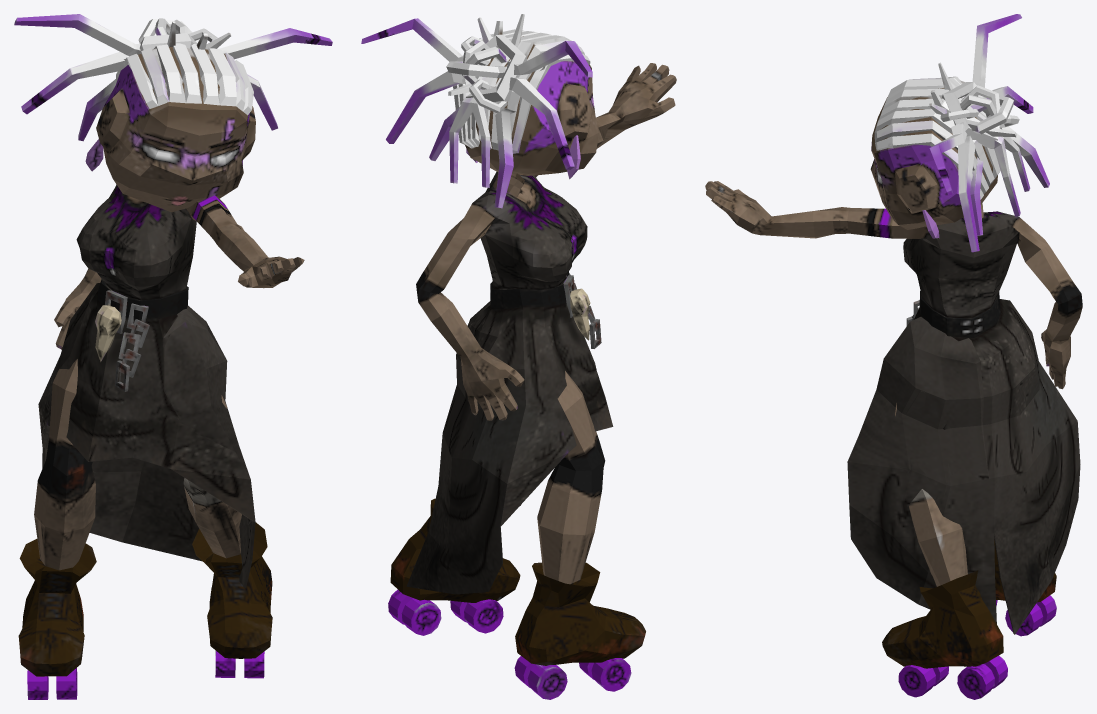
File: bruja_000025.obj
3 views of the same model, side by side, from view 1: azimuth 30°, elevation 25°; view 2: azimuth 150°, elevation 25°; view 3: azimuth 270°, elevation 25° (orthographic). The views are drawn at different scales.
Visible parts, largest first — view 1: Bruja_Plane.001; view 2: Bruja_Plane.001; view 3: Bruja_Plane.001.
Boxes of the visible parts, x1,y1,x2,y2 form: Bruja_Plane.001: (14,14,332,699); Bruja_Plane.001: (361,14,676,699); Bruja_Plane.001: (705,14,1082,699).
Size of the model in its own units: 7.74 by 16.37 by 9.21.
